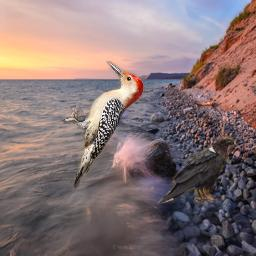Crow: (157, 136, 237, 207)
Woodpecker: (60, 61, 146, 189)
